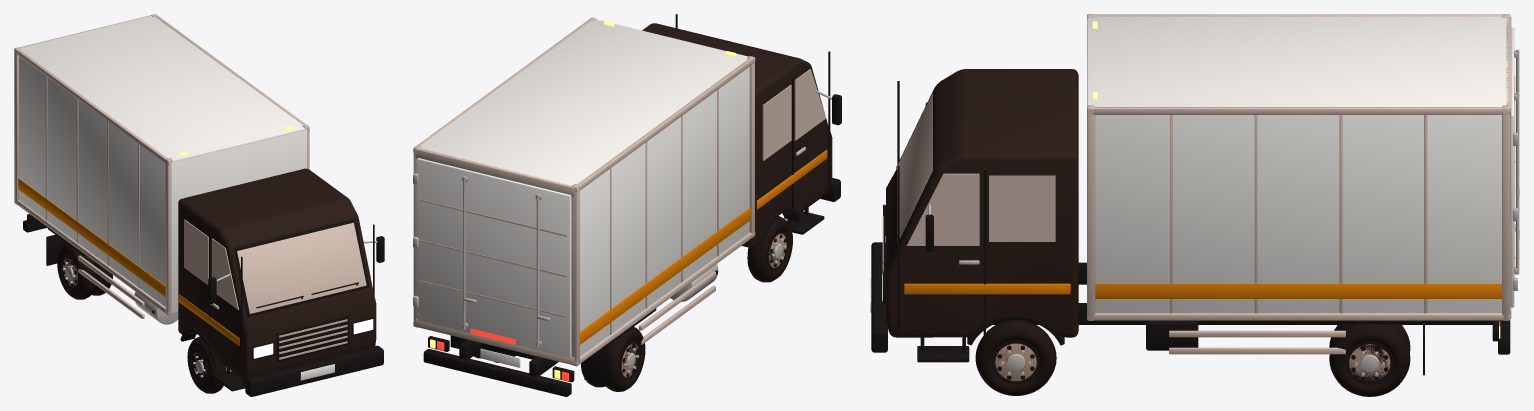
Rendered from tanex-truck.glb.
3 renders of one model, left to right at view 1: azimuth 30°, elevation 25°; view 2: azimuth 150°, elevation 25°; view 3: azimuth 270°, elevation 25°, orthographic. The views are drawn at different scales.
Visible parts, largest first — view 1: truck_body__truck_box, truck_body__truck_cab, truck_body__truck_glass, truck_body__truck_trim, truck_body__truck_edge, truck_body__truck_stripe, wheel_rear_right__truck_tyre, wheel_front_right__truck_tyre, truck_body__truck_chrome, truck_body__truck_headlight; view 2: truck_body__truck_box, cargo_door__truck_box, truck_body__truck_edge, truck_body__truck_cab, truck_body__truck_trim, truck_body__truck_glass, truck_body__truck_stripe, wheel_rear_right__truck_tyre, wheel_front_right__truck_tyre, cargo_door__truck_chrome, cargo_door__truck_edge, truck_body__truck_chrome; view 3: truck_body__truck_box, truck_body__truck_cab, truck_body__truck_edge, truck_body__truck_glass, truck_body__truck_trim, truck_body__truck_stripe, wheel_rear_left__truck_tyre, wheel_front_left__truck_tyre, cargo_door__truck_box, cargo_door__truck_chrome, wheel_front_left__truck_rims, wheel_rear_left__truck_rims.
Part boxes in pixels (<box>): truck_body__truck_box: <box>19,16,334,380</box>; truck_body__truck_cab: <box>178,168,376,380</box>; truck_body__truck_glass: <box>184,219,371,313</box>; truck_body__truck_trim: <box>23,214,384,396</box>; truck_body__truck_edge: <box>14,14,347,359</box>; truck_body__truck_stripe: <box>18,178,239,346</box>; wheel_rear_right__truck_tyre: <box>57,243,112,299</box>; wheel_front_right__truck_tyre: <box>187,336,226,393</box>; truck_body__truck_chrome: <box>134,241,377,324</box>; truck_body__truck_headlight: <box>253,319,373,358</box>; truck_body__truck_box: <box>420,19,749,367</box>; cargo_door__truck_box: <box>417,158,571,357</box>; truck_body__truck_edge: <box>413,17,755,366</box>; truck_body__truck_cab: <box>642,23,832,247</box>; truck_body__truck_trim: <box>423,14,841,396</box>; truck_body__truck_glass: <box>762,69,825,160</box>; truck_body__truck_stripe: <box>580,150,827,344</box>; wheel_rear_right__truck_tyre: <box>581,327,645,391</box>; wheel_front_right__truck_tyre: <box>747,216,792,282</box>; cargo_door__truck_chrome: <box>413,173,550,347</box>; cargo_door__truck_edge: <box>419,199,566,317</box>; truck_body__truck_chrome: <box>670,90,831,301</box>; truck_body__truck_box: <box>870,16,1508,312</box>; truck_body__truck_cab: <box>886,69,1078,337</box>; truck_body__truck_edge: <box>882,14,1511,354</box>; truck_body__truck_glass: <box>897,93,1055,245</box>; truck_body__truck_trim: <box>871,81,1510,375</box>; truck_body__truck_stripe: <box>904,283,1501,298</box>; wheel_rear_left__truck_tyre: <box>1329,324,1410,396</box>; wheel_front_left__truck_tyre: <box>975,320,1056,395</box>; cargo_door__truck_box: <box>1510,27,1514,307</box>; cargo_door__truck_chrome: <box>1513,49,1519,290</box>; wheel_front_left__truck_rims: <box>995,343,1036,381</box>; wheel_rear_left__truck_rims: <box>1349,344,1390,381</box>.
Size of the model in its own units: 2.66 by 3.15 by 6.24.
